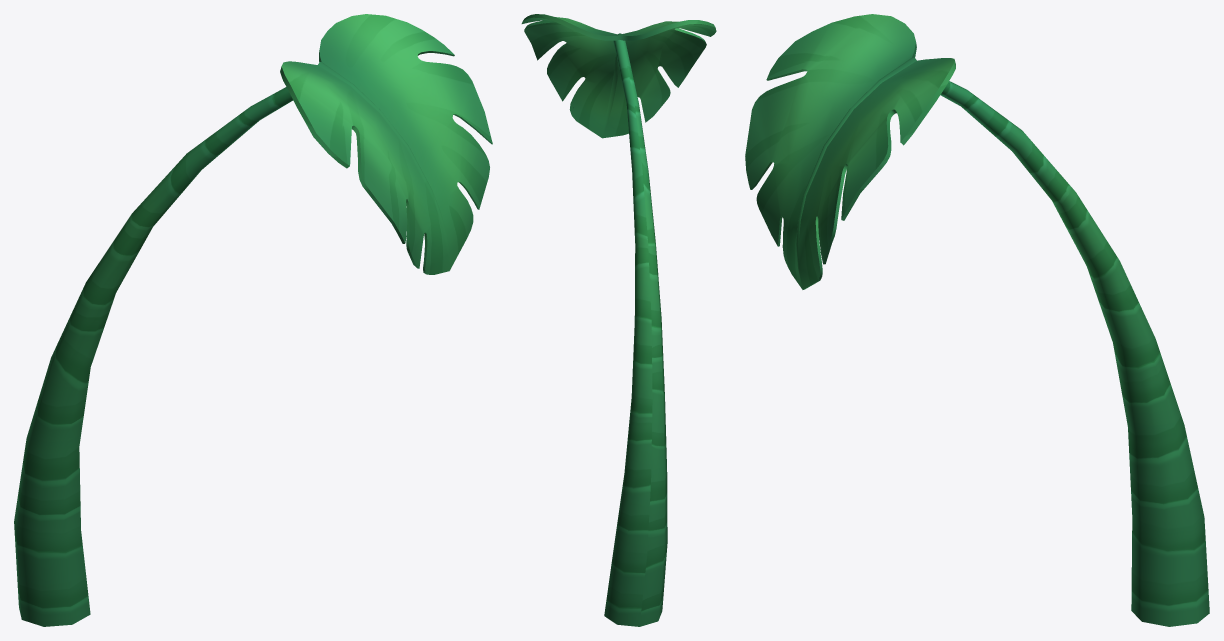
Rendered from GiantLeaf1.fbx.
3 views of the same model, side by side, from view 1: azimuth 30°, elevation 25°; view 2: azimuth 150°, elevation 25°; view 3: azimuth 270°, elevation 25° (orthographic). The views are drawn at different scales.
Visible parts, largest first — view 1: GiantLeaf1; view 2: GiantLeaf1; view 3: GiantLeaf1.
Boxes of the visible parts, x1,y1,x2,y2 form: GiantLeaf1: (14, 14, 492, 626); GiantLeaf1: (521, 14, 716, 626); GiantLeaf1: (745, 14, 1209, 626).
Size of the model in its own units: 4.06 by 7.66 by 4.98.
